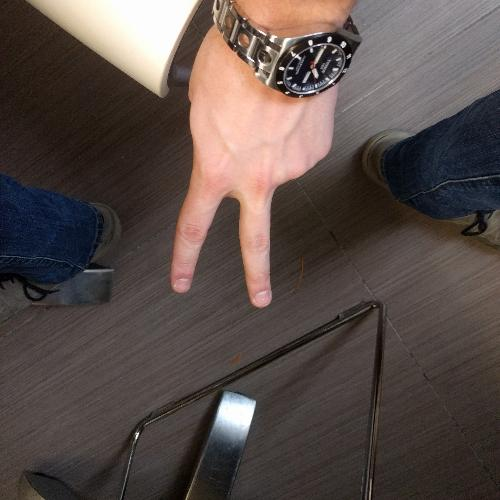scissors: (164, 1, 369, 312)
